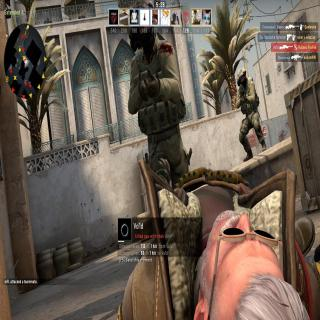CT-Body: (122, 0, 184, 188), (232, 68, 262, 148)
CT-Head: (130, 0, 156, 46), (236, 67, 249, 84)
